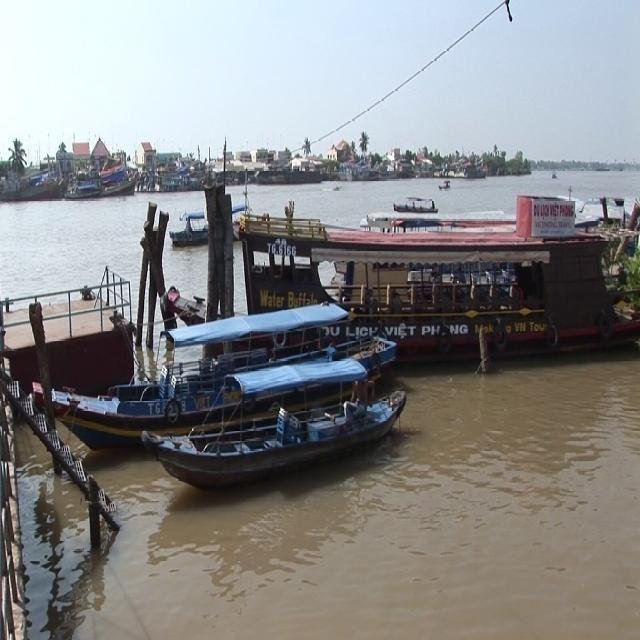boat: (29, 306, 406, 453), (168, 381, 412, 489), (389, 191, 447, 224), (65, 178, 137, 202), (434, 178, 456, 192)
